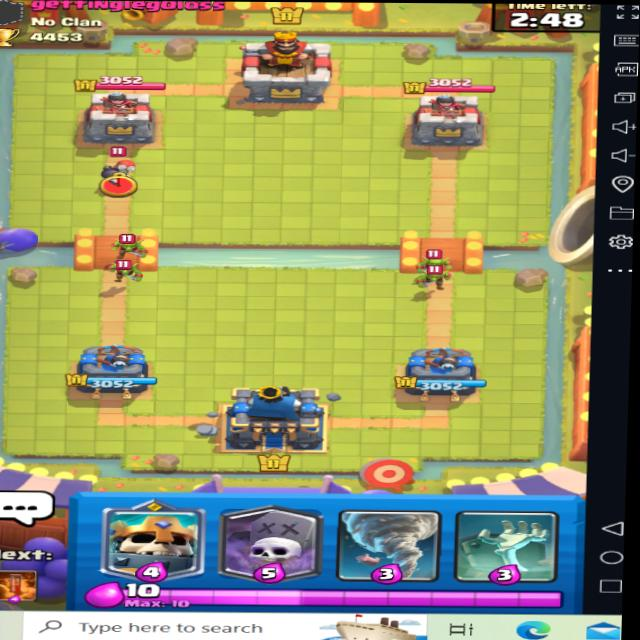bomber: (99, 148, 144, 184)
goblin: (411, 239, 452, 271), (419, 267, 461, 293), (112, 230, 143, 255), (94, 262, 149, 276)
